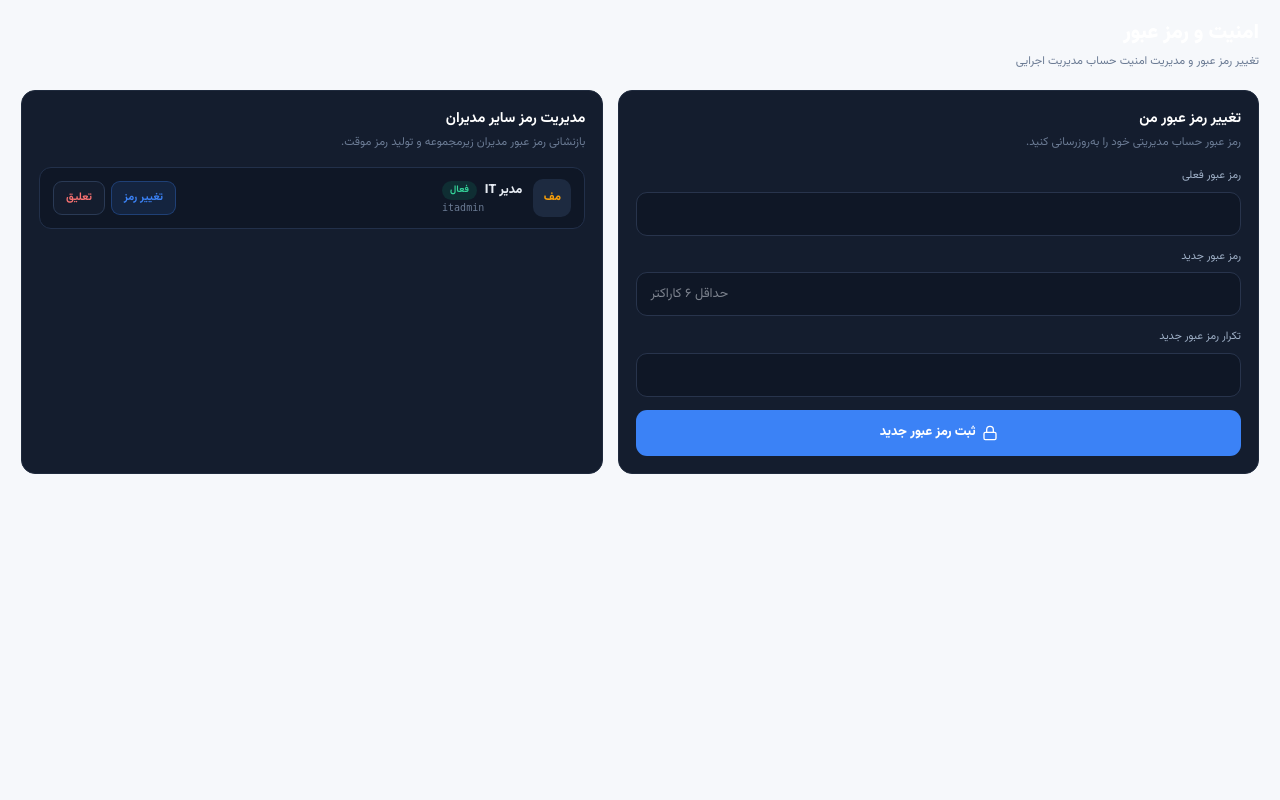
OwnSecurityPage › resets a managed manager password and shows the one-time temp password
Check: the text "مدیر IT" is shown, box [485,180,522,200]
Click the button "تغییر رمز".
click(143, 198)  # box [111,181,176,215]
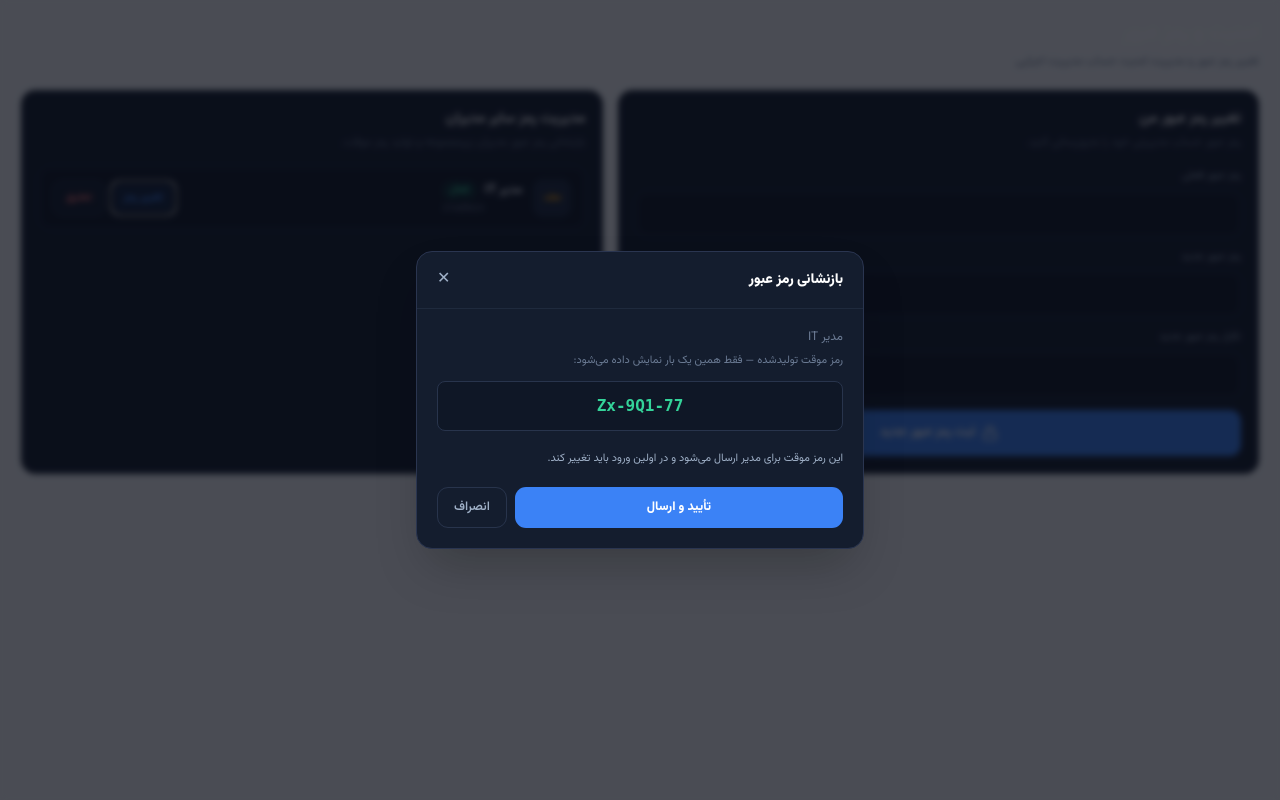
Check: the text "Zx-9Q1-77" is shown, box [437,381,843,431]
